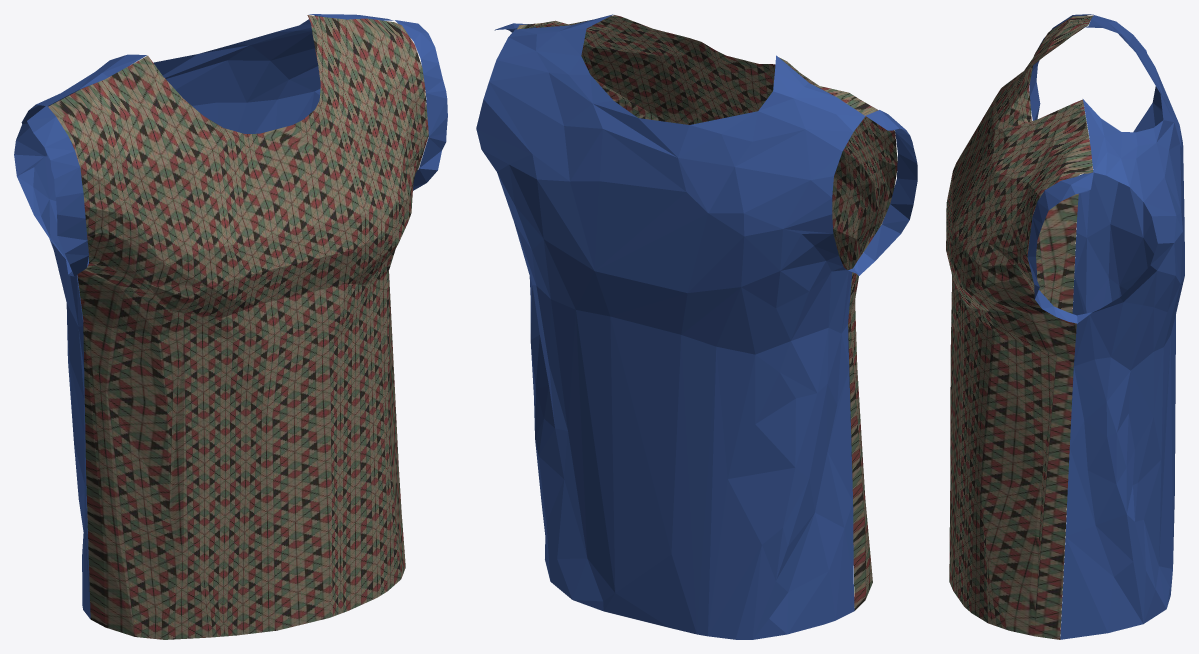
3 renders of one model, left to right at view 1: azimuth 30°, elevation 25°; view 2: azimuth 150°, elevation 25°; view 3: azimuth 270°, elevation 25°, orthographic. The views are drawn at different scales.
Visible parts, largest first — view 1: T_shirt; view 2: T_shirt; view 3: T_shirt.
Part boxes in pixels (<box>): T_shirt: <box>14,14,447,639</box>; T_shirt: <box>476,14,917,639</box>; T_shirt: <box>946,14,1184,639</box>.
Bounding box in the file's own units: 0.2935 × 0.3892 × 0.1639.
Materials: 2 (1 with a texture image).
